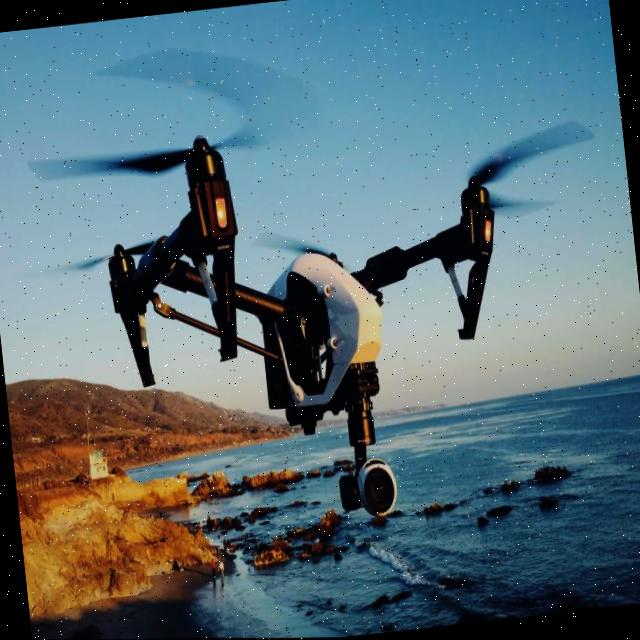drone: (34, 38, 578, 427)
